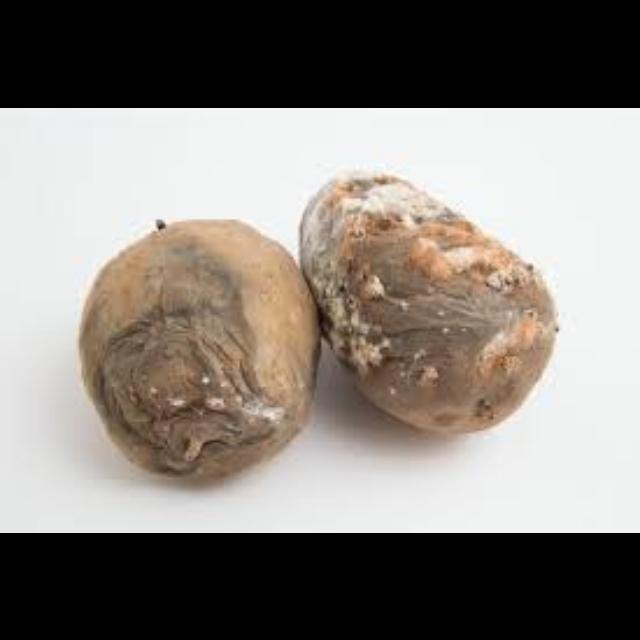Damaged potato: (308, 164, 570, 450), (92, 208, 326, 487)
